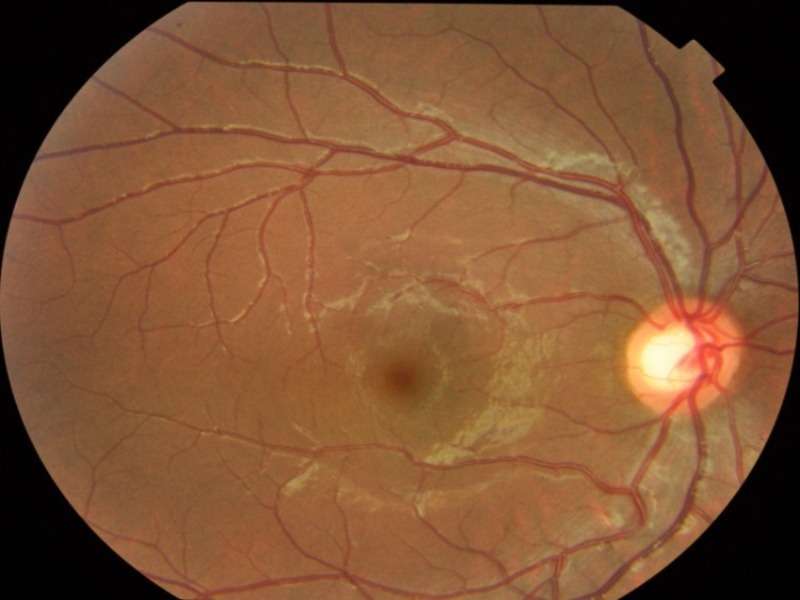Optic Cup: (642, 327, 692, 388)
Optic Disc: (624, 298, 742, 418)
